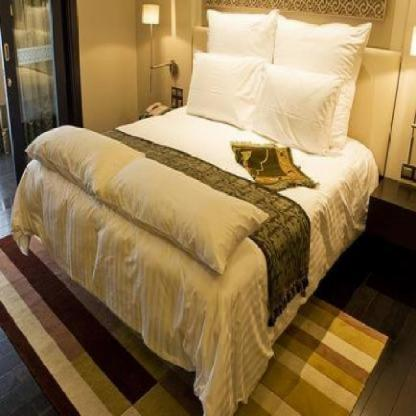Bed: (10, 6, 405, 416)
